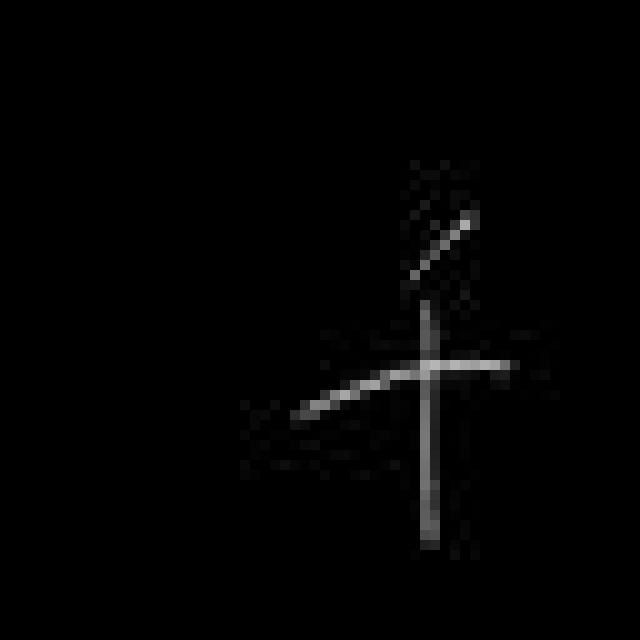1000 -a thousand-: (286, 212, 514, 550)
